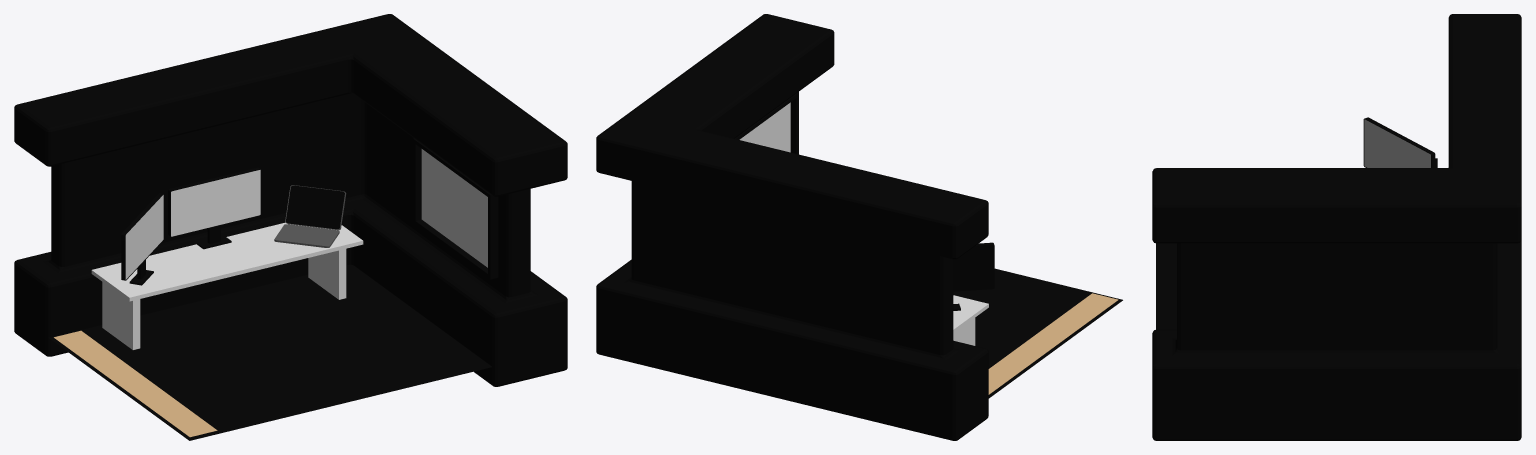
The model's file is portfolioDesk.gltf.
3 views of the same model, side by side, from view 1: azimuth 30°, elevation 25°; view 2: azimuth 150°, elevation 25°; view 3: azimuth 270°, elevation 25° (orthographic). The views are drawn at different scales.
Parts seen in each view (by area): view 1: Cube, Plane, Cube.003, Cube.009, Cube.004, Plane.001, Cube.008, Cube.006, Cube.001, Cube.002; view 2: Cube, Plane, Plane.001, Cube.009, Cube.006, Cube.003; view 3: Cube, Cube.006, Plane.
Part boxes in pixels (left/top/right/bottom): Cube: left=14, top=14, right=567, bottom=386; Plane: left=48, top=264, right=491, bottom=440; Cube.003: left=91, top=222, right=363, bottom=301; Cube.009: left=413, top=138, right=498, bottom=279; Cube.004: left=168, top=167, right=261, bottom=237; Plane.001: left=54, top=330, right=217, bottom=437; Cube.008: left=274, top=185, right=346, bottom=247; Cube.006: left=121, top=193, right=164, bottom=280; Cube.001: left=102, top=282, right=140, bottom=349; Cube.002: left=308, top=249, right=346, bottom=299; Cube: left=596, top=14, right=988, bottom=440; Plane: left=953, top=268, right=1122, bottom=398; Plane.001: left=988, top=293, right=1118, bottom=394; Cube.009: left=734, top=92, right=798, bottom=154; Cube.006: left=953, top=242, right=994, bottom=291; Cube.003: left=953, top=295, right=988, bottom=333; Cube: left=1152, top=14, right=1521, bottom=440; Cube.006: left=1363, top=117, right=1435, bottom=167; Plane: left=1156, top=243, right=1176, bottom=329.
Size of the model in its own units: 71.66 by 41.36 by 58.21.
